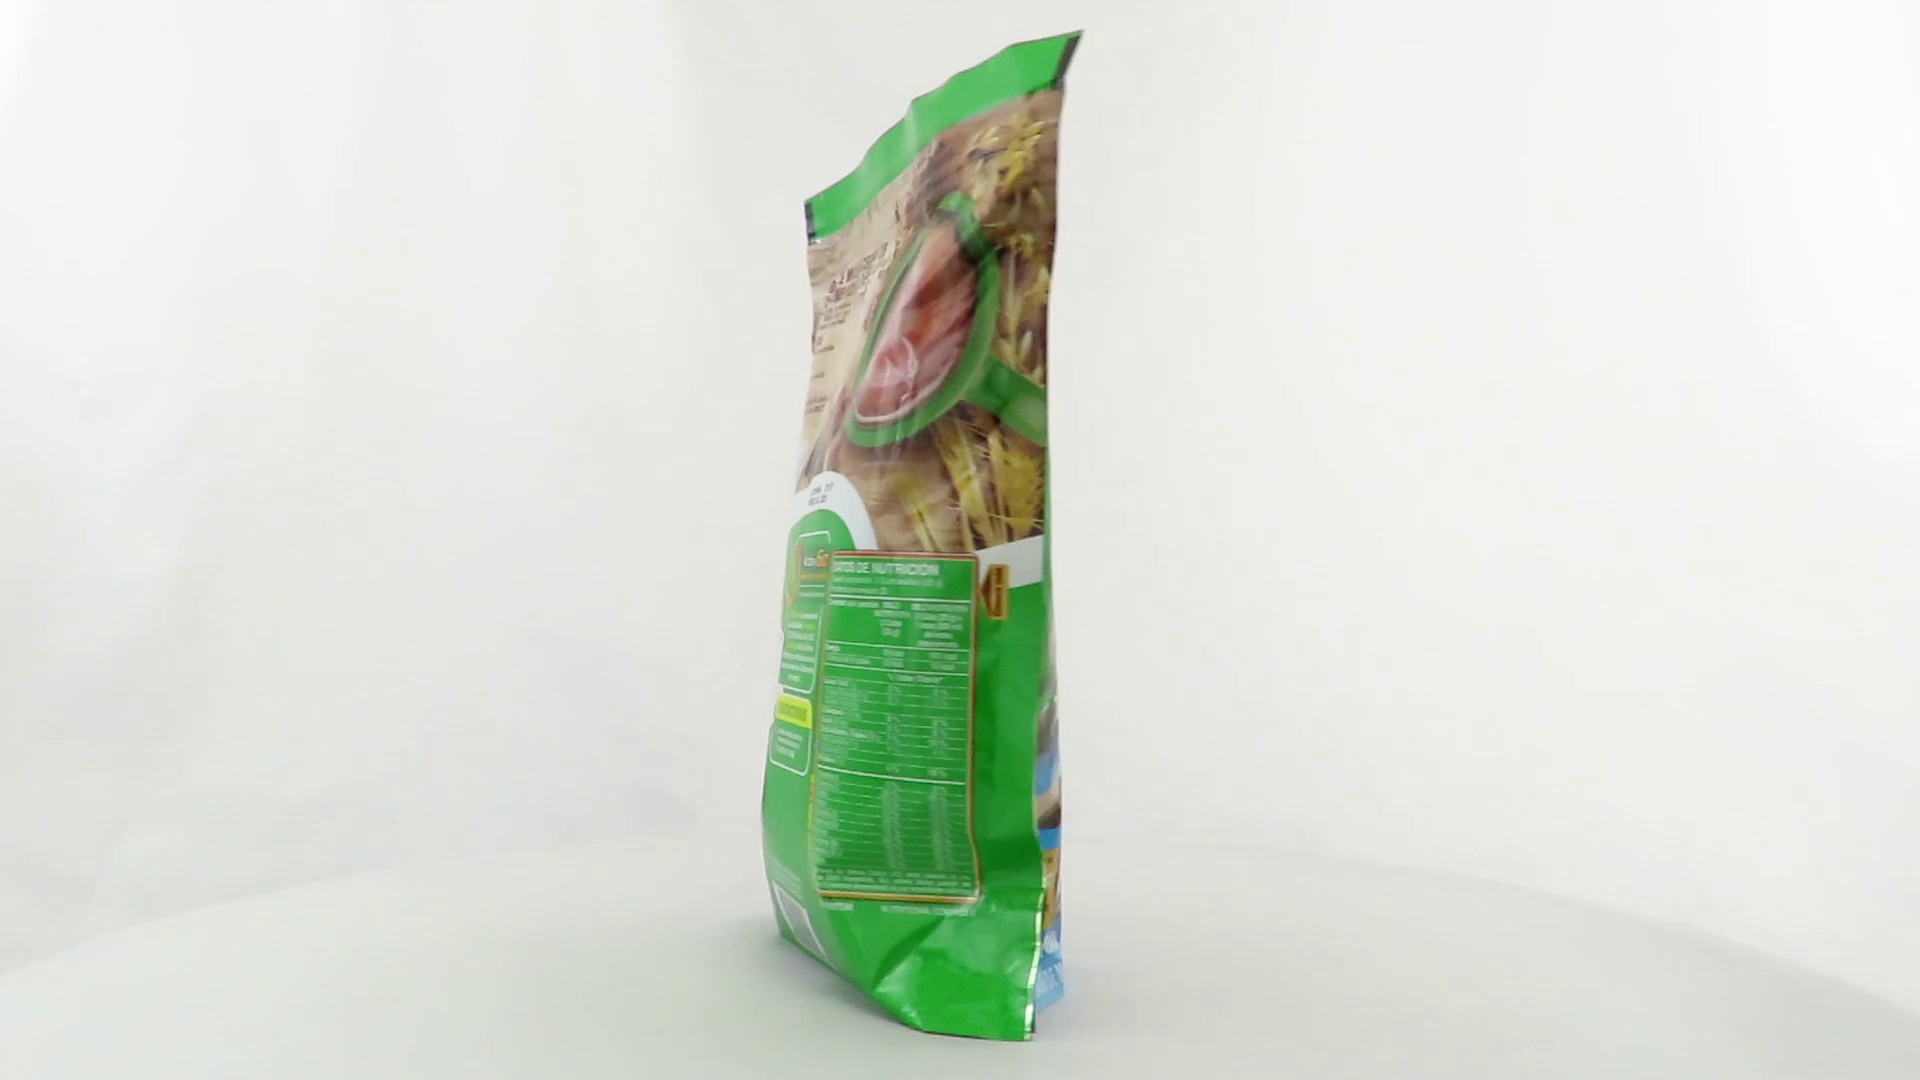COL0170205DYP50000: (756, 24, 1089, 1048)
